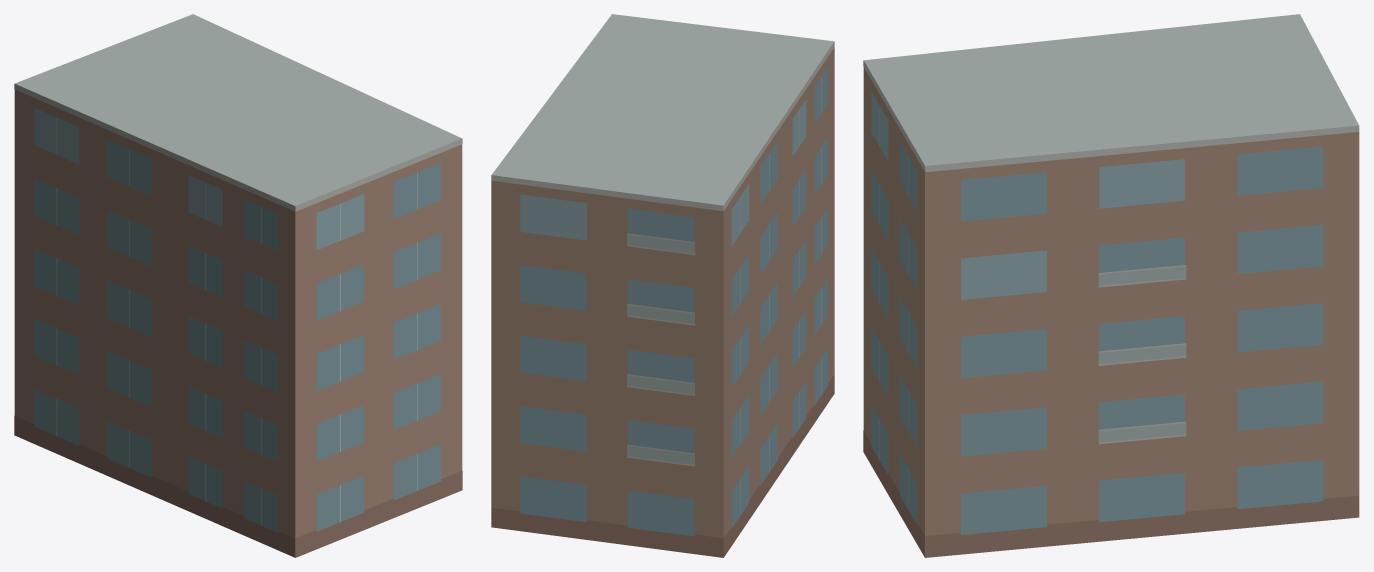
File: survey-upis-33047607.glb
3 views of the same model, side by side, from view 1: azimuth 30°, elevation 25°; view 2: azimuth 150°, elevation 25°; view 3: azimuth 270°, elevation 25° (orthographic). The views are drawn at different scales.
Parts seen in each view (by area): view 1: survey-upis-33047607.tmp; view 2: survey-upis-33047607.tmp; view 3: survey-upis-33047607.tmp.
Boxes of the visible parts, x1=… form: survey-upis-33047607.tmp: x1=14, y1=14, x2=462, y2=557; survey-upis-33047607.tmp: x1=491, y1=14, x2=834, y2=557; survey-upis-33047607.tmp: x1=863, y1=14, x2=1359, y2=557.
Size of the model in its own units: 12.7 by 15.25 by 17.5.
